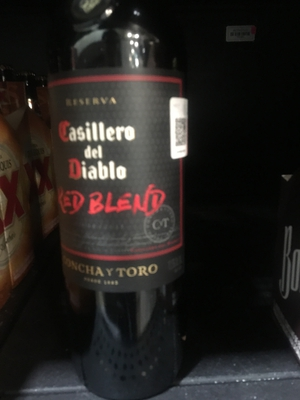casillero del diablo red blend: (46, 5, 203, 397)
